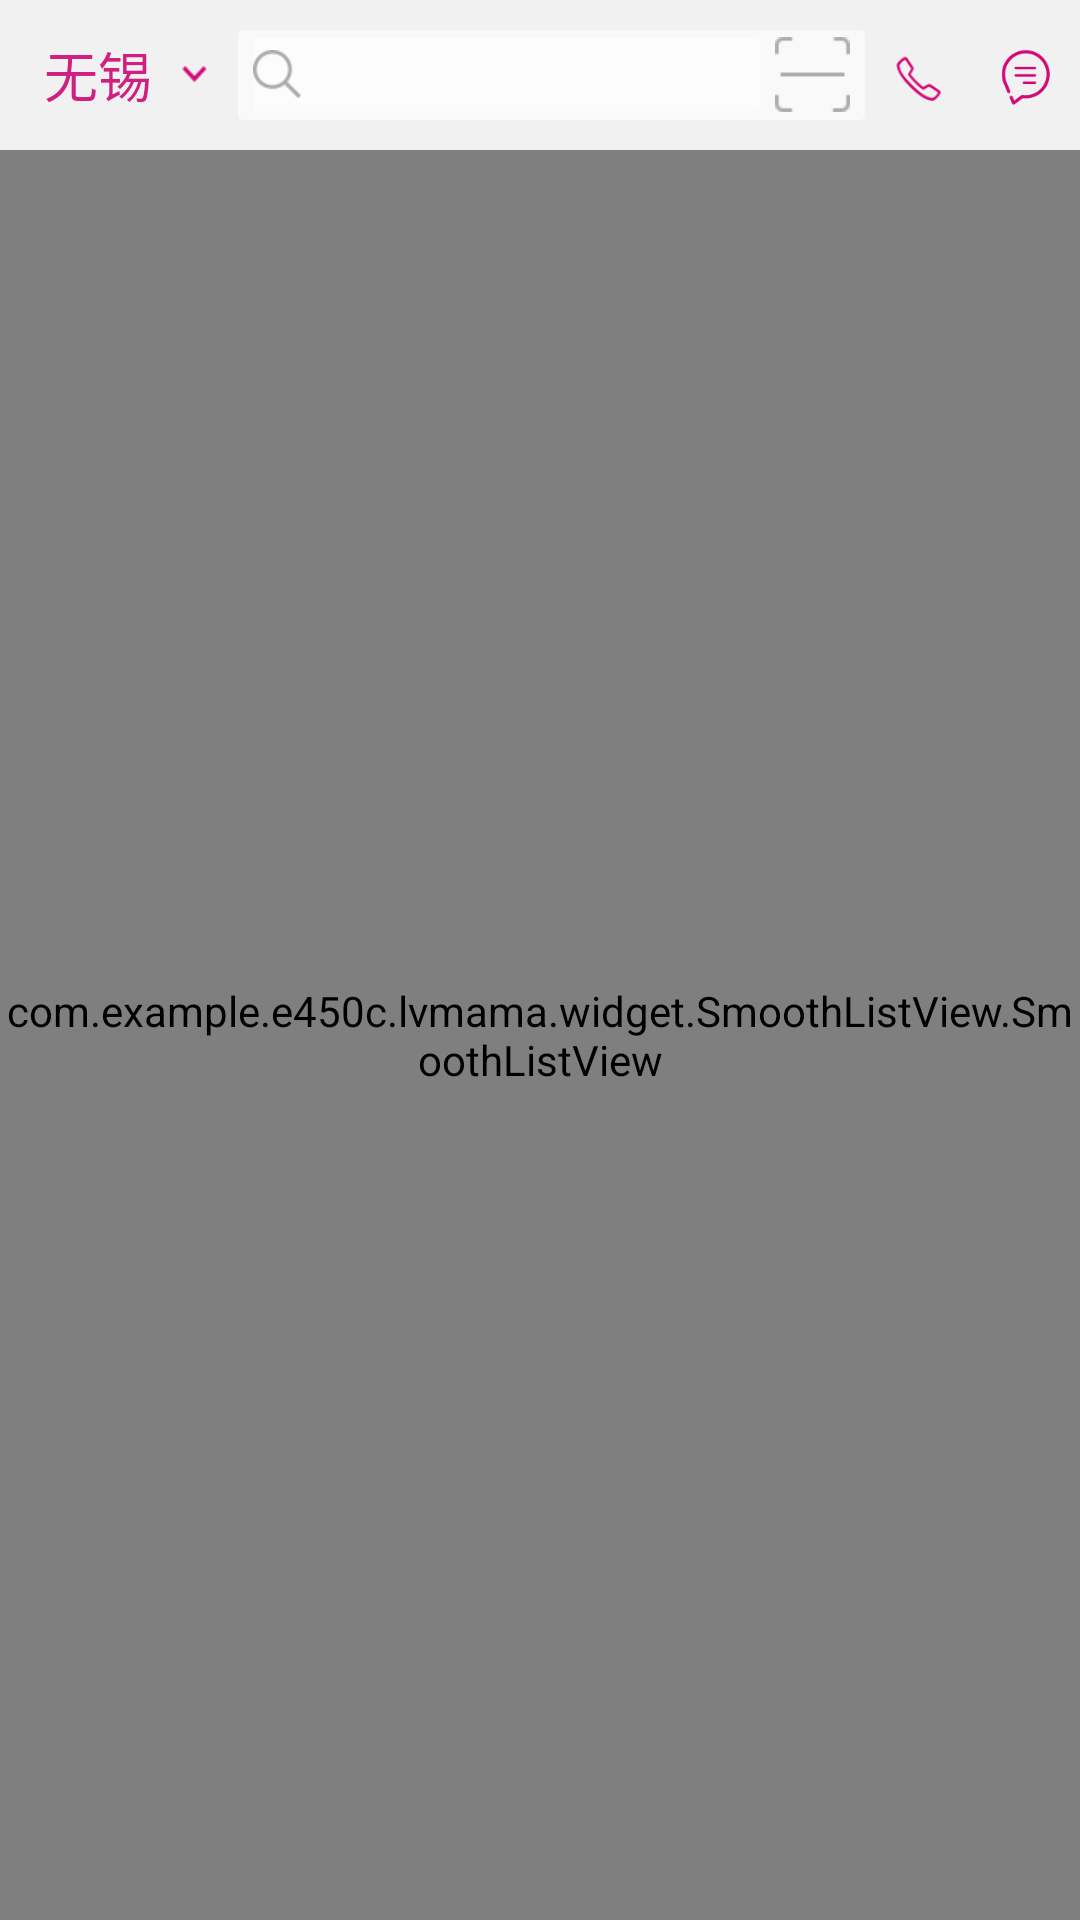

Icons on this 1080px x 1920px Android screen, each with its box as detection(x1, y1, x2, y2):
erweima: detection(775, 37, 850, 112)
message: detection(1002, 50, 1050, 105)
tel: detection(896, 56, 941, 101)
